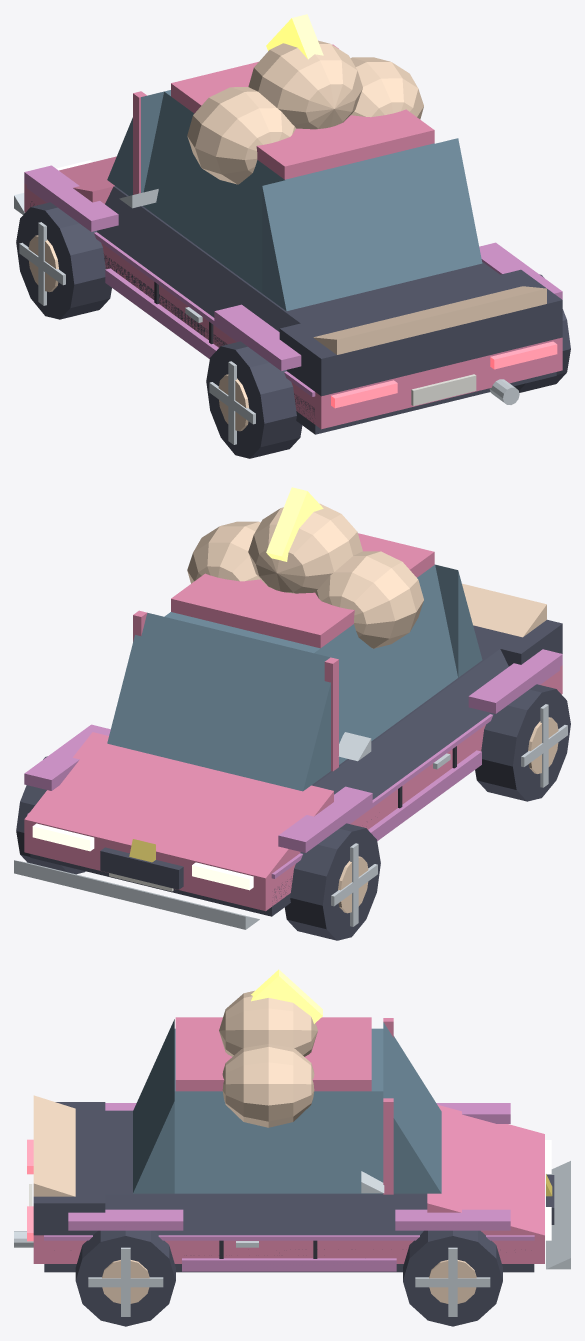
File: mushroom_mobile.glb
The picture shows the model from 3 angles, top to bottom: view 1: azimuth 30°, elevation 25°; view 2: azimuth 150°, elevation 25°; view 3: azimuth 270°, elevation 25°; orthographic projection. The views are drawn at different scales.
Visible parts, largest first — view 1: RearWindow.222, Tail.123, CabinSideL.119, Roof.322, Body.322, ShoulderL.119, CloudCap1.009, CloudCap0.009, Wheel_RL.262, Wheel_FL.262, Ducktail.082, BodyUpper.119 (+20 smaller); view 2: Windshield.222, Nose.119, CabinSideL.119, Roof.322, ShoulderL.119, Body.322, CloudCap0.009, Wheel_FL.262, Wheel_RL.262, CloudCap1.009, Bumper.318, CloudCap2.009 (+22 smaller); view 3: CabinSideR.119, ShoulderR.119, Nose.119, Roof.322, Body.322, Windshield.222, CloudCap2.009, Wheel_FR.262, Wheel_RR.262, RearWindow.222, Tail.123, CloudCap1.009 (+18 smaller).
Boxes of the visible parts, x1,y1,x2,y2 form: RearWindow.222: (262, 138, 482, 311); Tail.123: (279, 269, 562, 396); CabinSideL.119: (143, 91, 284, 292); Roof.322: (171, 61, 434, 179); Body.322: (24, 183, 562, 429); ShoulderL.119: (97, 186, 300, 331); CloudCap1.009: (248, 40, 362, 129); CloudCap0.009: (187, 87, 295, 184); Wheel_RL.262: (206, 341, 302, 458); Wheel_FL.262: (16, 202, 111, 319); Ducktail.082: (313, 286, 546, 354); BodyUpper.119: (114, 186, 499, 323); Windshield.222: (107, 612, 330, 791); Nose.119: (24, 732, 333, 878); CabinSideL.119: (314, 565, 457, 764); Roof.322: (171, 533, 434, 648); ShoulderL.119: (313, 649, 508, 799); Body.322: (24, 665, 562, 911); CloudCap0.009: (315, 551, 423, 648); Wheel_FL.262: (284, 823, 380, 940); Wheel_RL.262: (475, 684, 570, 801); CloudCap1.009: (248, 503, 362, 593); Bumper.318: (14, 860, 259, 929); CloudCap2.009: (187, 521, 260, 583); CabinSideR.119: (174, 1091, 383, 1193); ShoulderR.119: (105, 1194, 427, 1235); Nose.119: (427, 1104, 544, 1235); Roof.322: (175, 1017, 371, 1091); Body.322: (33, 1235, 544, 1263); Windshield.222: (383, 1022, 441, 1193); CloudCap2.009: (222, 1044, 314, 1127); Wheel_FR.262: (403, 1230, 502, 1326); Wheel_RR.262: (75, 1230, 175, 1326); RearWindow.222: (133, 1019, 174, 1193); Tail.123: (33, 1102, 105, 1235); CloudCap1.009: (219, 990, 317, 1056).
Bounding box in the file's own units: 3 × 3.06 × 5.34.
